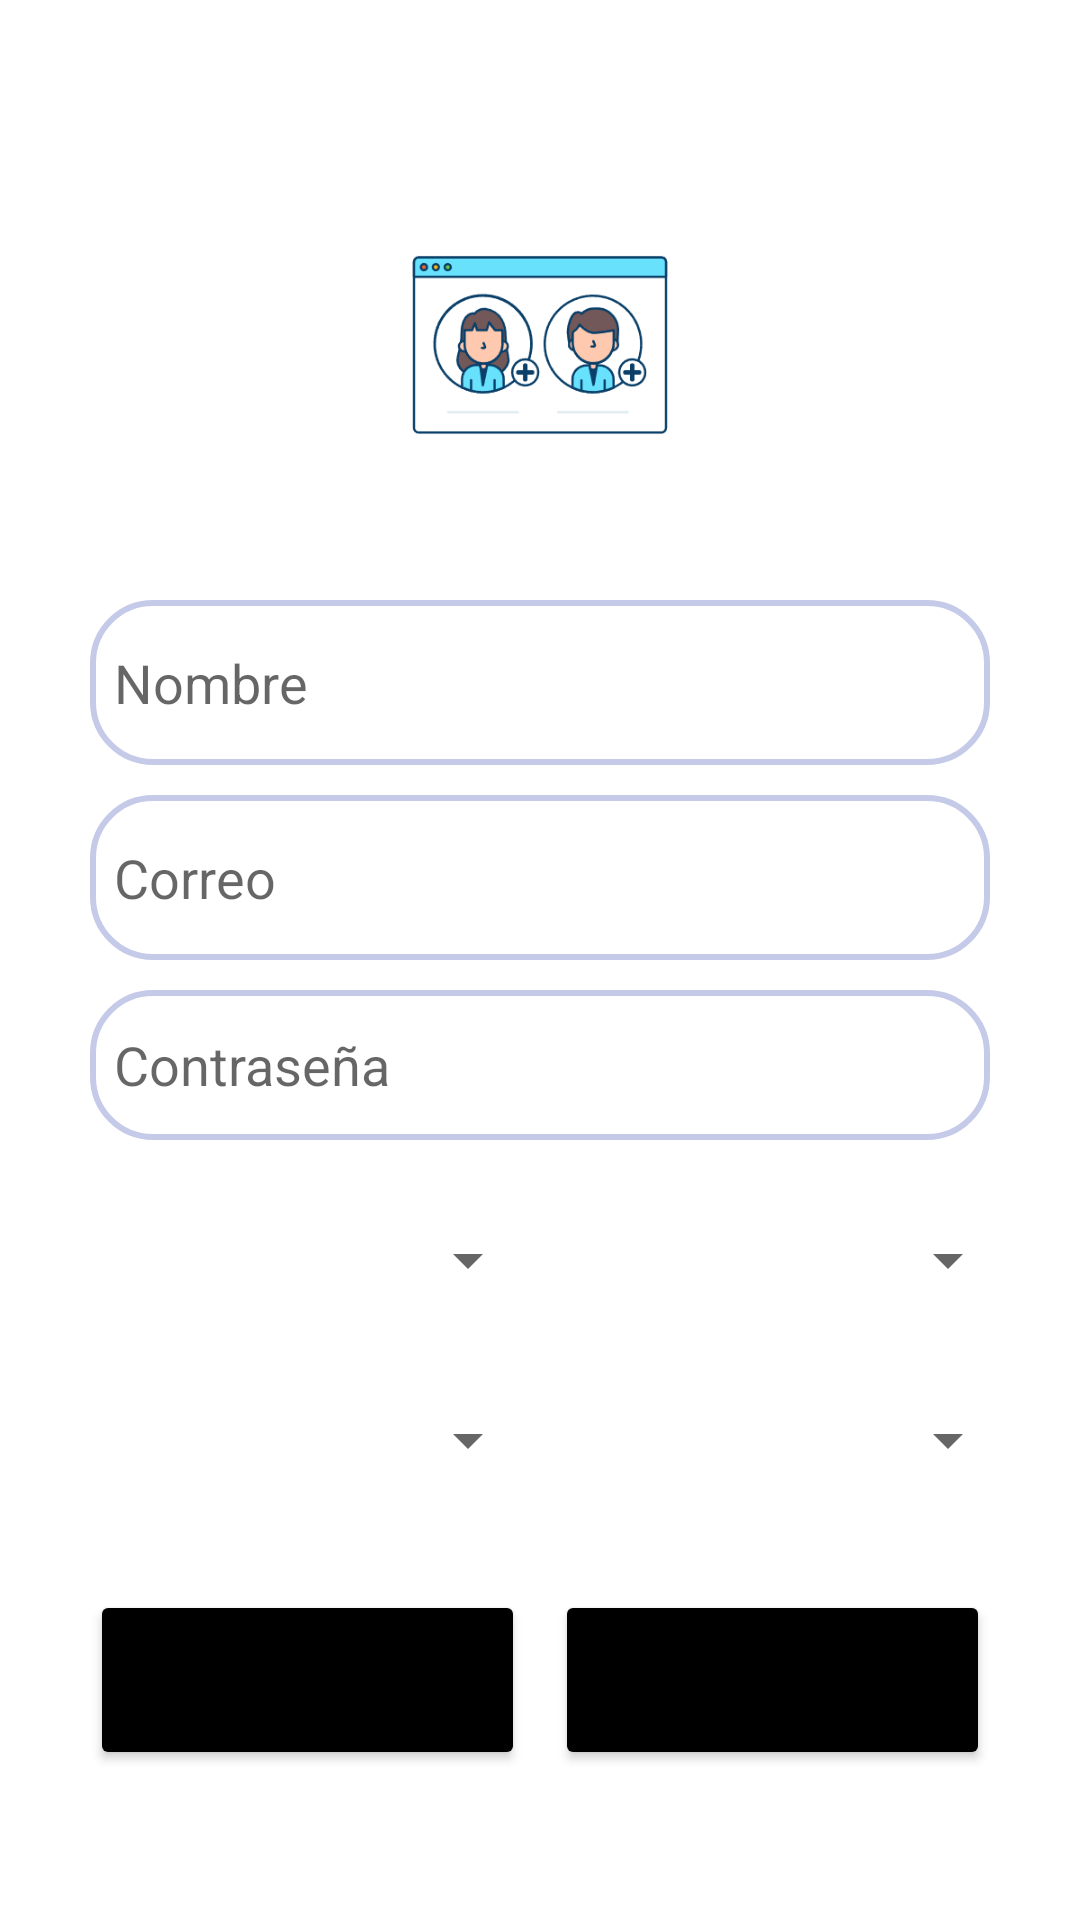

Icons on this 1080px×1920px Android screen, each with its box as (x1, y1, x2, y2):
profile: (412, 256, 668, 434)
